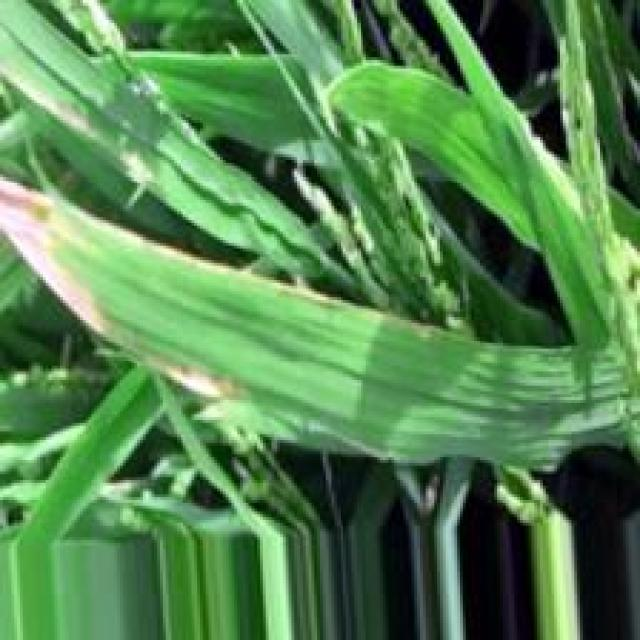Unhealthy: (0, 175, 233, 334), (160, 365, 236, 401)
